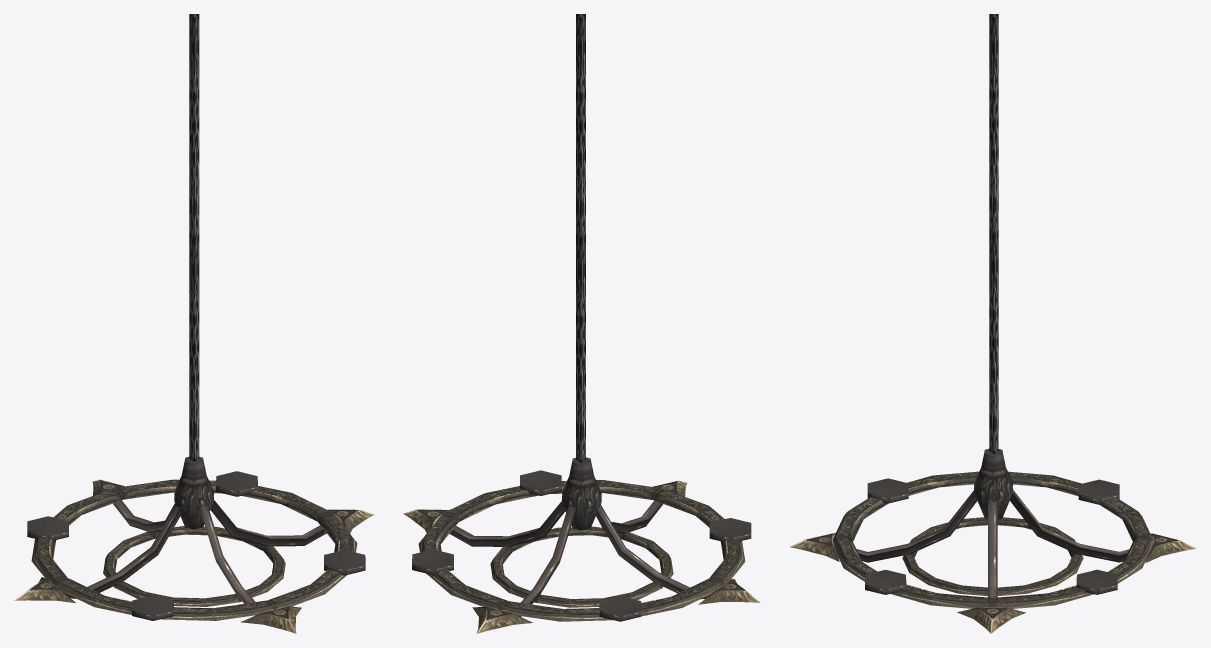
The model's file is torch_light_03.FBX.
The picture shows the model from 3 angles, left to right: view 1: azimuth 30°, elevation 25°; view 2: azimuth 150°, elevation 25°; view 3: azimuth 270°, elevation 25°; orthographic projection.
Parts seen in each view (by area): view 1: torch_light_03; view 2: torch_light_03; view 3: torch_light_03.
Part boxes in pixels (x1=…): torch_light_03: x1=14, y1=14, x2=374, y2=633; torch_light_03: x1=403, y1=14, x2=760, y2=633; torch_light_03: x1=790, y1=14, x2=1195, y2=633.
Size of the model in its own units: 2.19 by 3.25 by 2.19.
